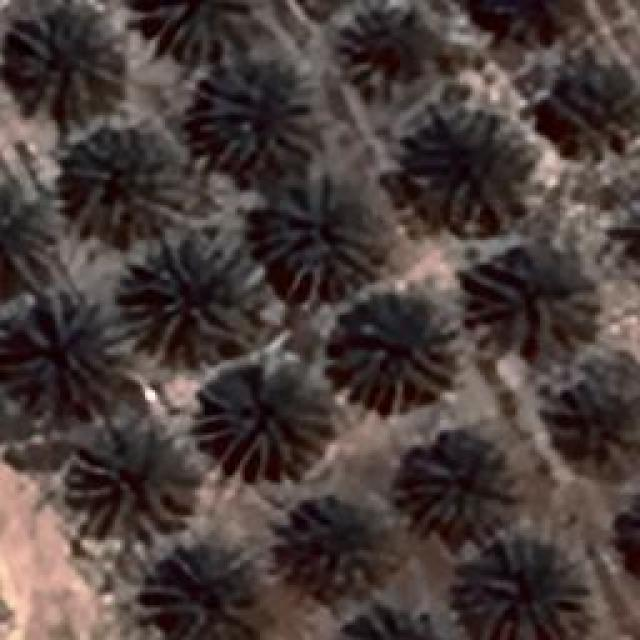PalmTree: (73, 39, 398, 621), (120, 230, 262, 368), (398, 100, 538, 230), (62, 418, 200, 548), (461, 234, 601, 362), (190, 358, 335, 480), (252, 172, 378, 306), (190, 49, 320, 172), (62, 125, 200, 240), (330, 298, 460, 412), (272, 494, 398, 602), (537, 347, 640, 472), (460, 538, 588, 638), (9, 9, 122, 122), (392, 438, 518, 538), (8, 290, 110, 405), (145, 542, 260, 638), (344, 14, 446, 98), (541, 59, 634, 149), (454, 0, 583, 52), (128, 0, 253, 52), (614, 488, 640, 582), (621, 488, 640, 580), (623, 185, 640, 282), (628, 487, 640, 579)
